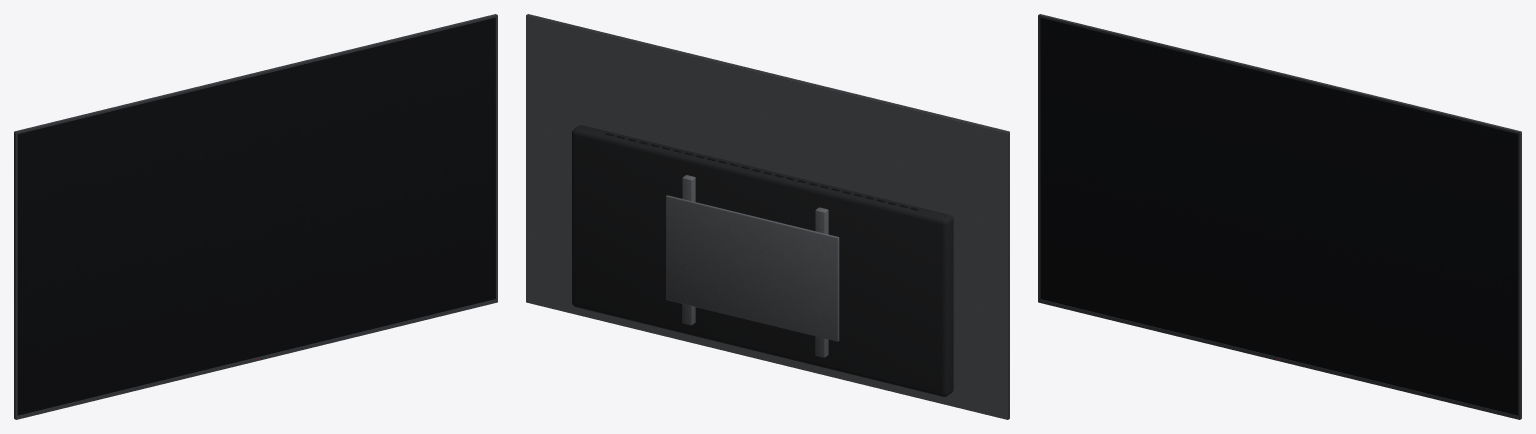
3 renders of one model, left to right at view 1: azimuth 30°, elevation 25°; view 2: azimuth 150°, elevation 25°; view 3: azimuth 330°, elevation 25°, orthographic.
Visible parts, largest first — view 1: Screen, Bezel frame; view 2: VESA inserts, Rear housing, Slim wall bracket, Bezel frame, Vents and connector panel; view 3: Screen, Bezel frame.
Part boxes in pixels (bbox=[...]): Screen: bbox=[17, 17, 495, 415]; Bezel frame: bbox=[14, 14, 497, 419]; VESA inserts: bbox=[526, 15, 1007, 419]; Rear housing: bbox=[572, 125, 953, 396]; Slim wall bracket: bbox=[666, 175, 839, 357]; Bezel frame: bbox=[526, 14, 1009, 419]; Vents and connector panel: bbox=[605, 133, 918, 210]; Screen: bbox=[1040, 17, 1518, 415]; Bezel frame: bbox=[1038, 14, 1521, 419].
Size of the model in its own units: 1.45 by 0.8269 by 0.089.
Materials: 6 (6 with a texture image).
